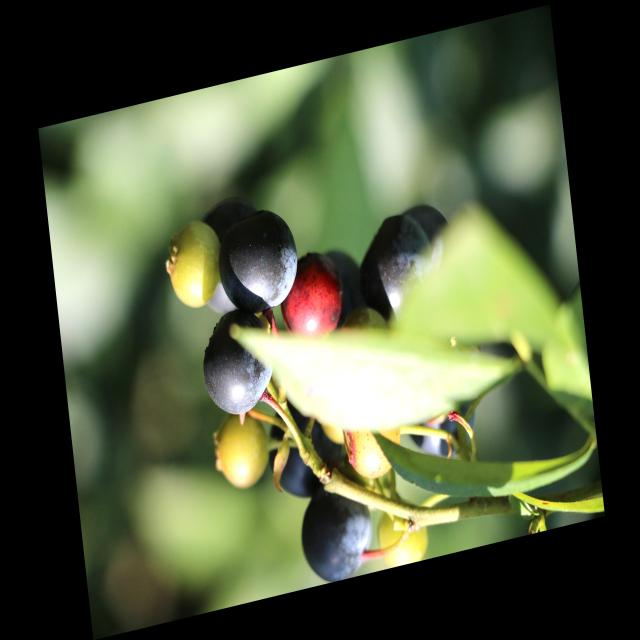blueberry: (346, 192, 442, 328), (186, 187, 277, 327), (260, 378, 352, 514), (211, 202, 306, 327), (192, 294, 279, 426), (294, 471, 382, 589), (399, 396, 486, 476), (315, 227, 370, 342), (393, 189, 455, 261)
blueberry-halfripe: (278, 250, 344, 353)
blueberry-unripe: (208, 410, 279, 505), (163, 215, 228, 318), (345, 406, 406, 484), (373, 503, 435, 570)
